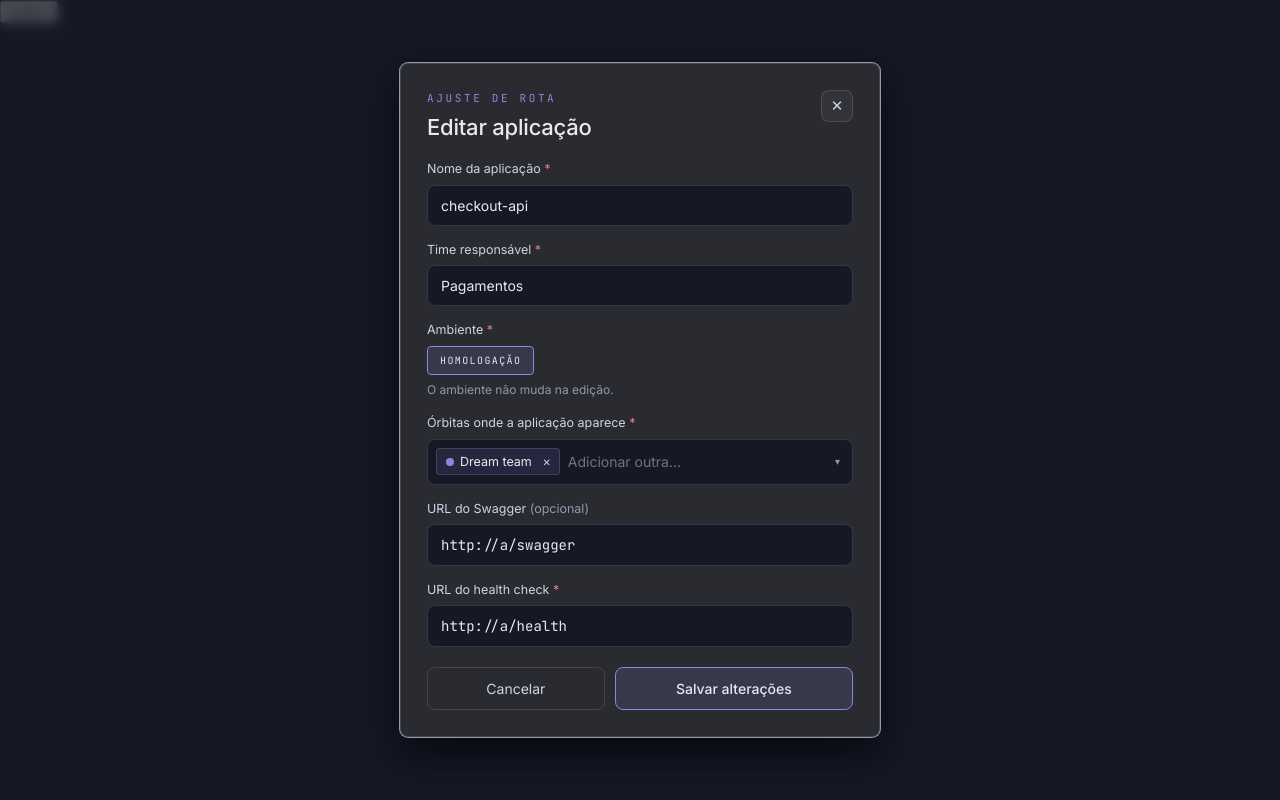
Test: AppFormDialog: edição › 404 na edição avisa que a app foi removida
Click the button "Salvar alterações".
click(734, 689)  # box left=615, top=667, right=853, bottom=710
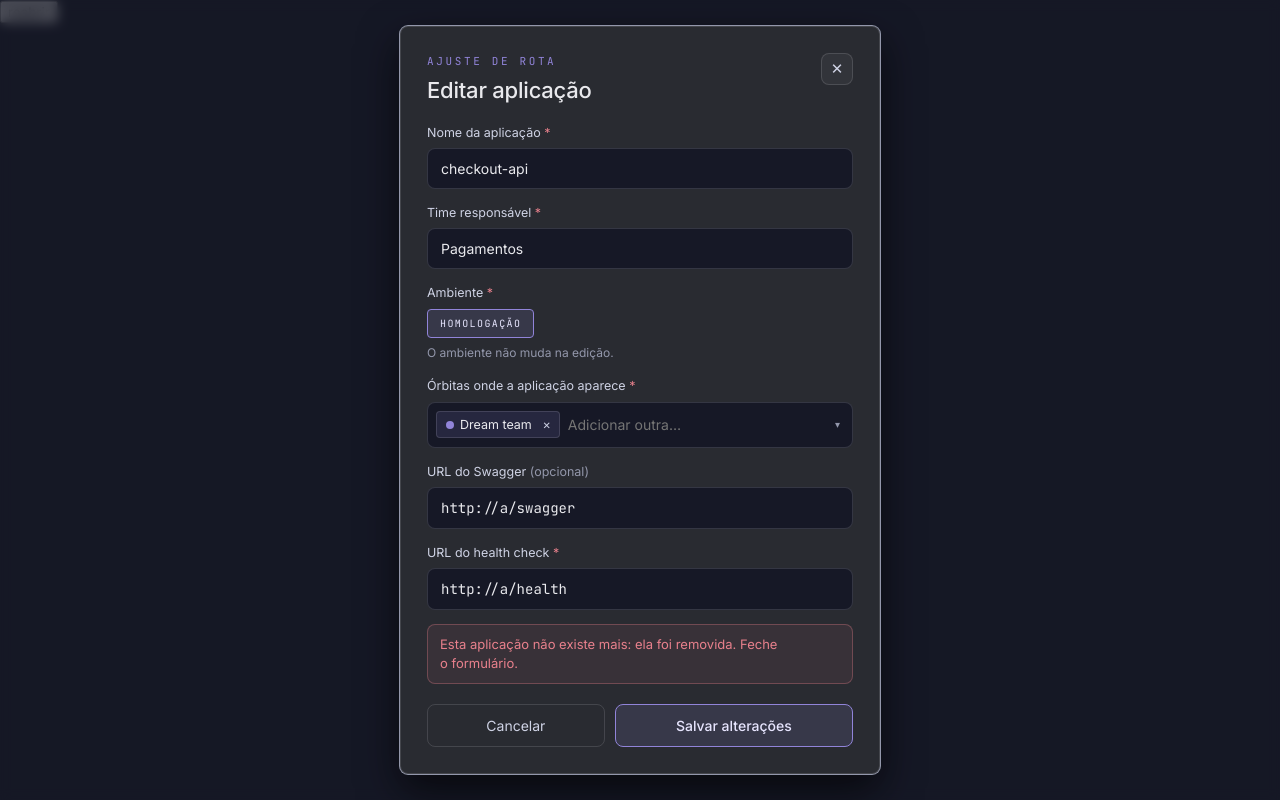
Expected: the text "Esta aplicação não existe mais: ela foi removida. Feche o formulário." is shown, left=427, top=624, right=853, bottom=684
